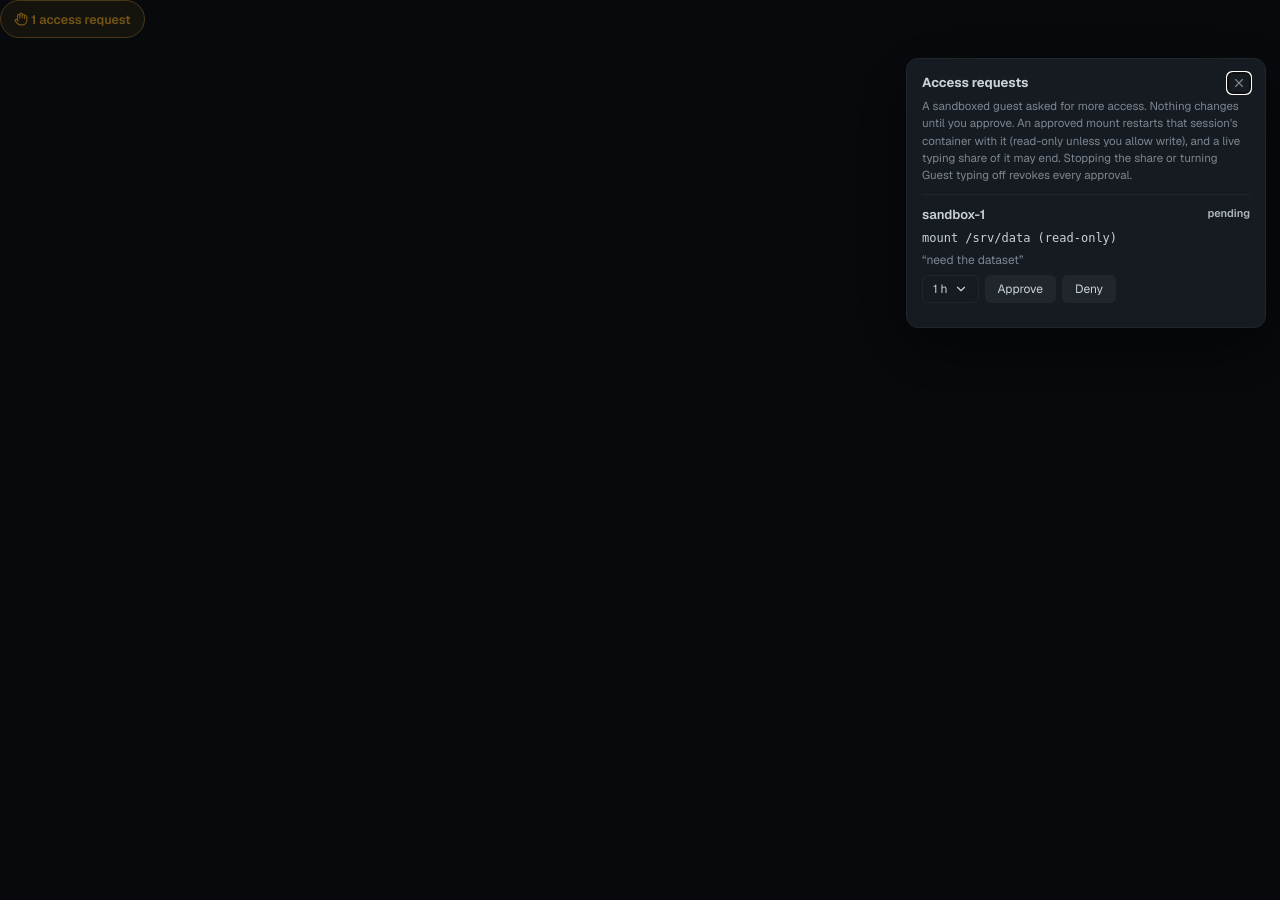
Test: a refused decision shows the server reason on its row, and keeps the row usable
The image size is (1280, 900).
Click the button with class "ar-deny" at (1089, 289), box x1=1062 y1=275 x2=1116 y2=303
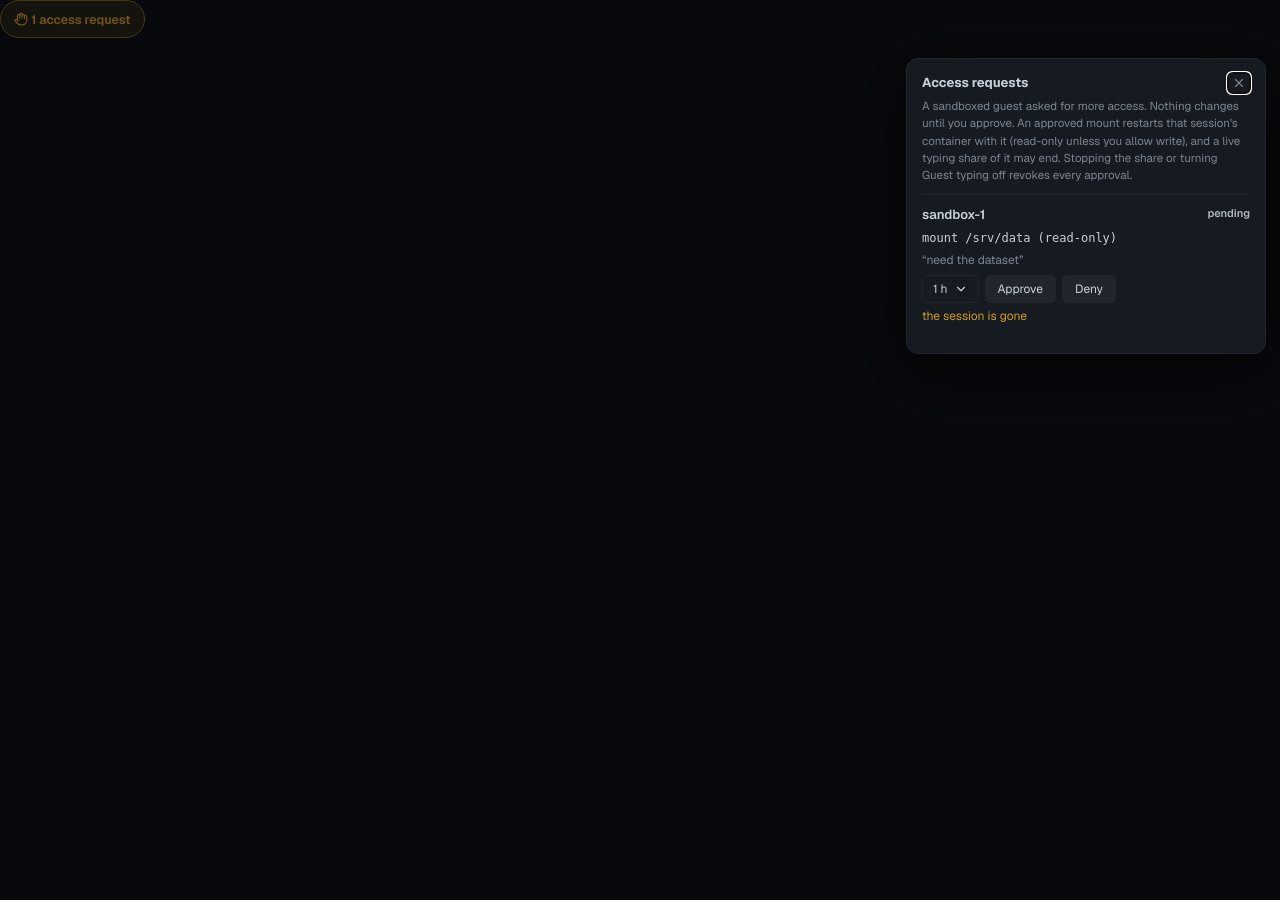
Now the message "the session is gone" is shown, box x1=922 y1=308 x2=1027 y2=324
Click the button with class "ar-approve" at (1020, 289), box x1=985 y1=275 x2=1056 y2=303
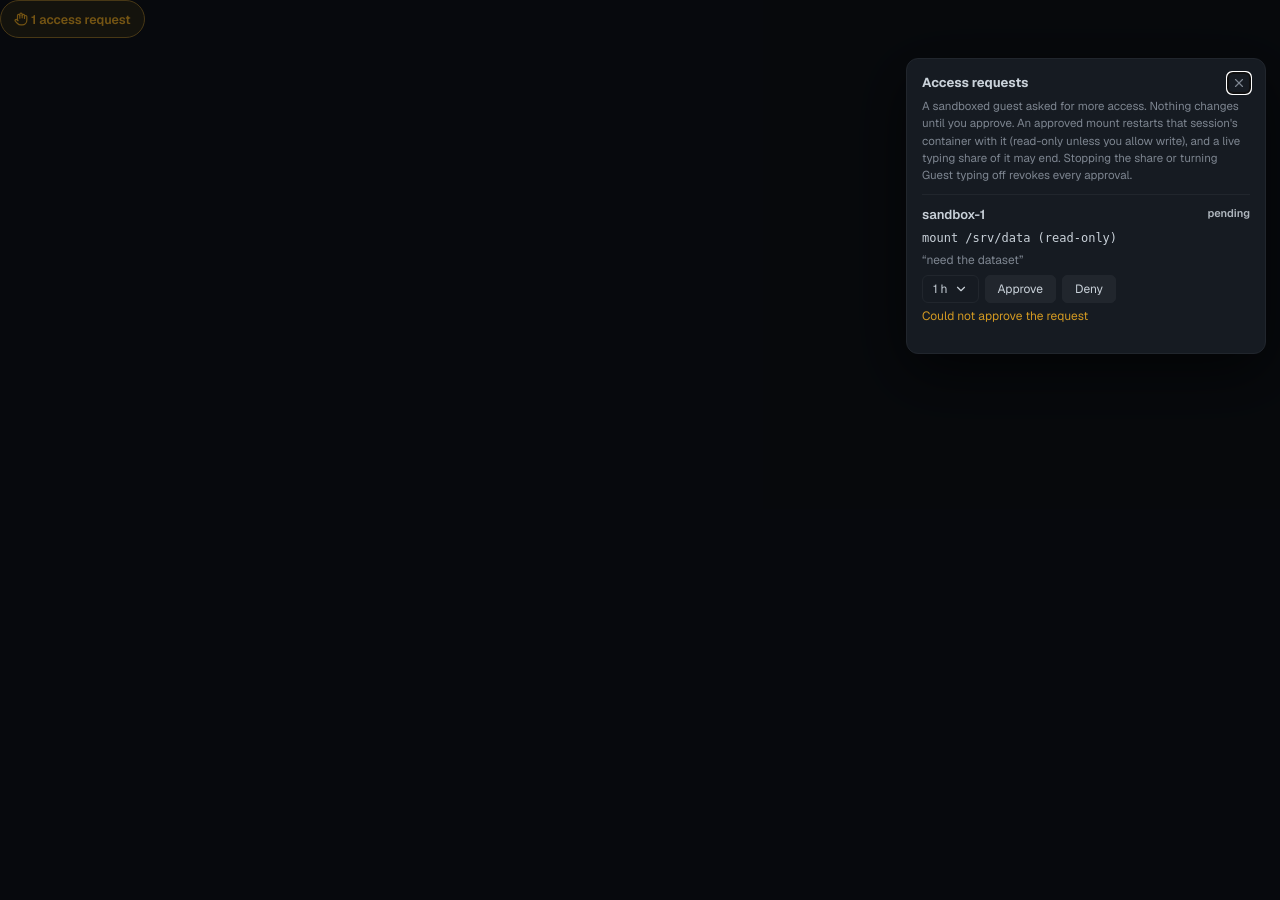
Now the message "Could not approve the request" is shown, box x1=922 y1=308 x2=1088 y2=324
Click the button with class "ar-deny" at (1089, 289), box x1=1062 y1=275 x2=1116 y2=303
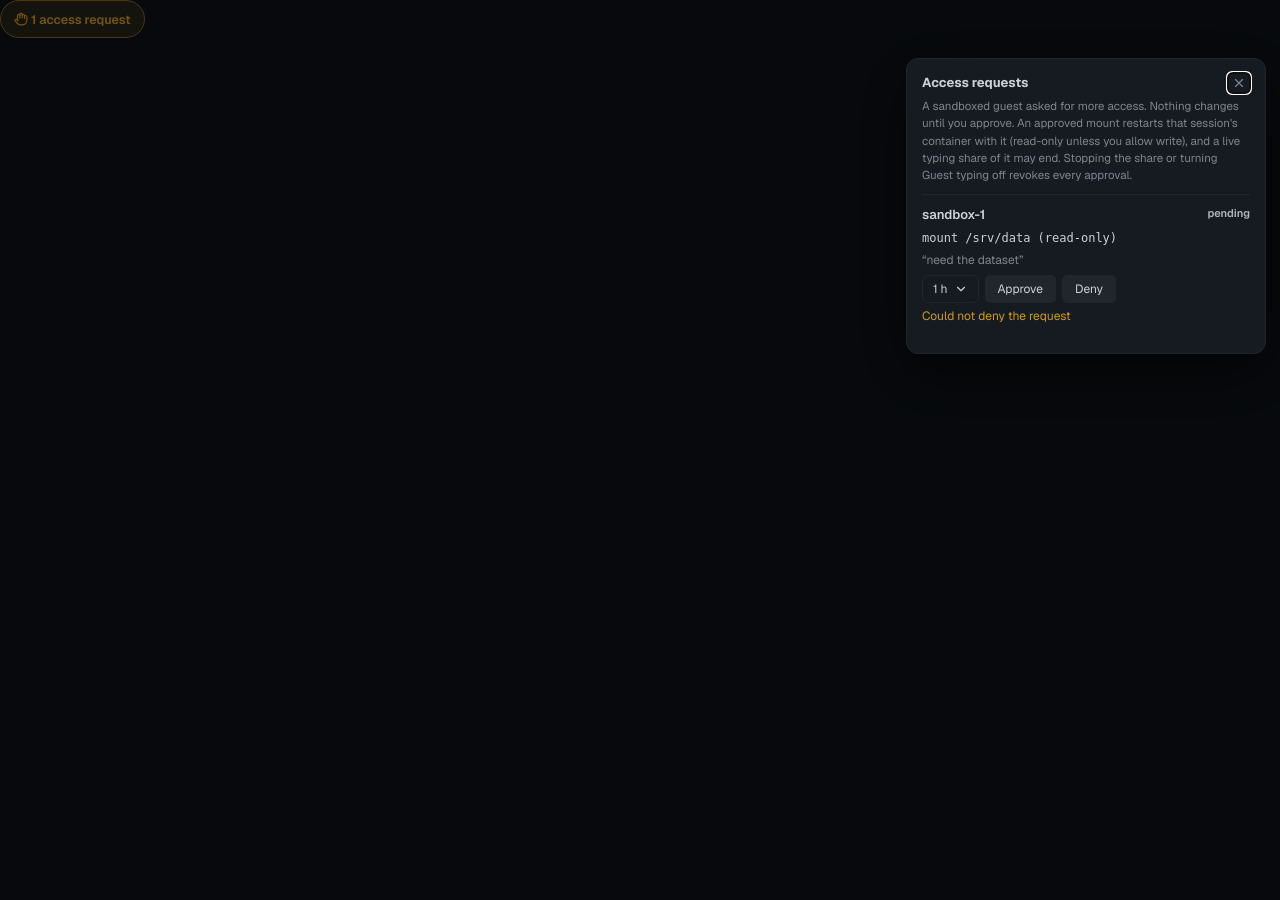
Now the message "Could not deny the request" is shown, box x1=922 y1=308 x2=1071 y2=324
